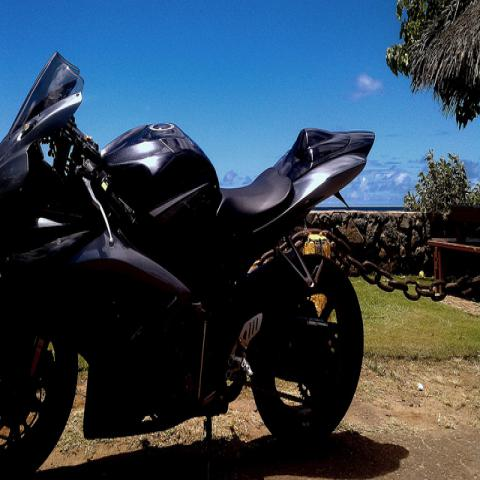motorcycle: (0, 49, 375, 470)
